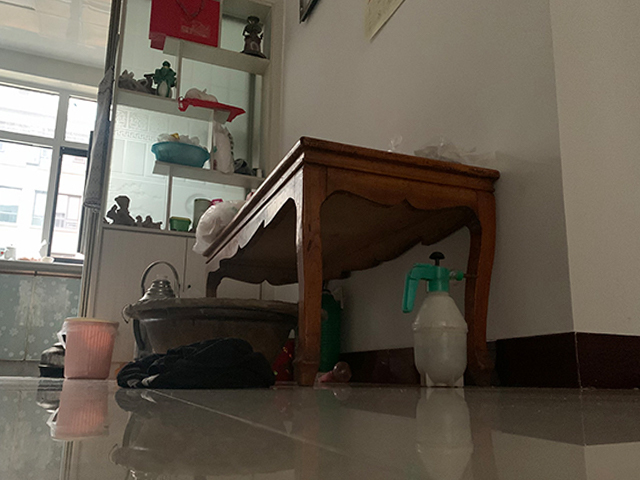cabinet: (1, 259, 83, 376)
table: (201, 136, 502, 386)
trashcan: (63, 316, 119, 380)
